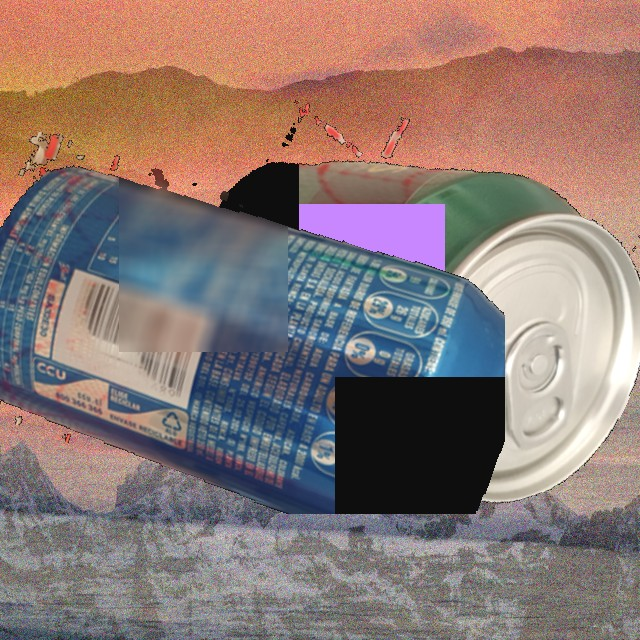pepsi: (0, 132, 505, 514)
schweppes: (172, 62, 640, 503)
